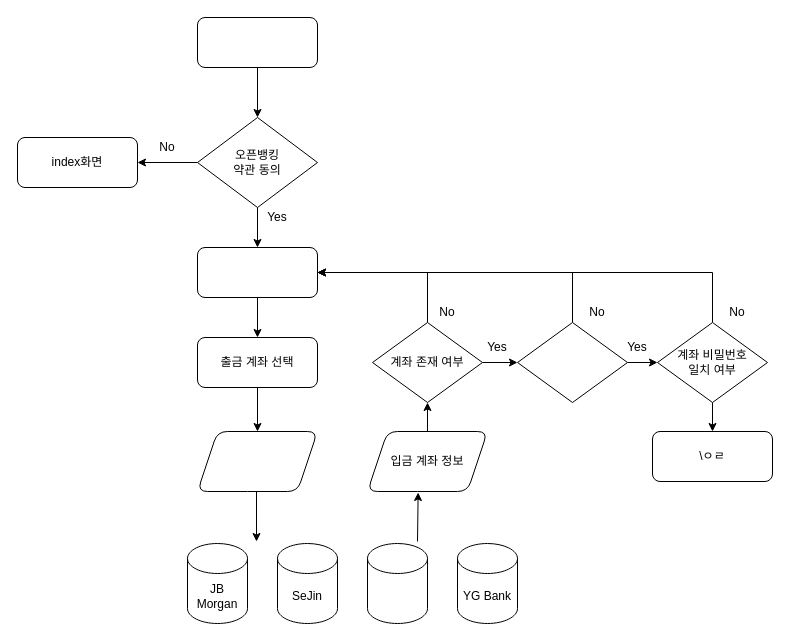
This 790x641 diagram has some shape labels left out. The shapes that lost their labels are listed below. From the top down, each one's centre as x and y in pixels, then its label:
At point (257, 42): "오픈 뱅킹 서비스".
At point (257, 272): "오픈뱅킹 계좌조회".
At point (572, 362): "잔액 유무".
At point (257, 461): "은행코드 SSN".
At point (397, 583): "DonJo".
